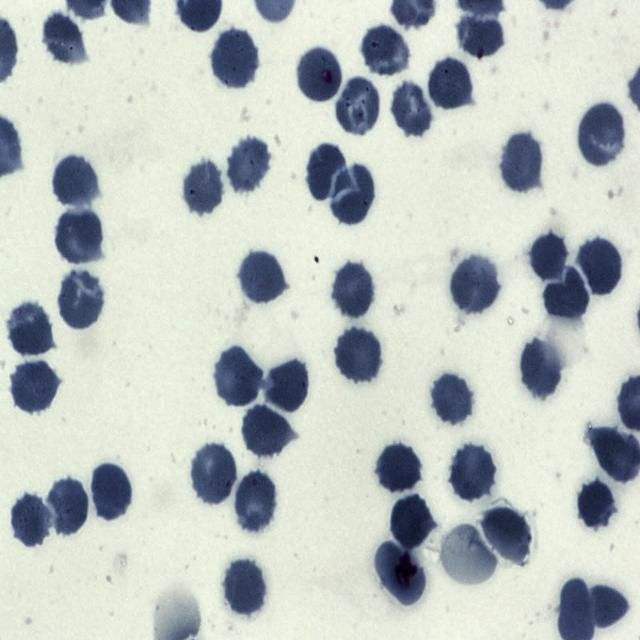red blood cell: (576, 100, 626, 170), (556, 585, 630, 630), (450, 252, 501, 314), (214, 345, 264, 407), (374, 540, 424, 602), (307, 140, 356, 202), (57, 268, 105, 331), (334, 75, 382, 137), (233, 468, 278, 534), (329, 163, 376, 226), (192, 442, 238, 506), (54, 207, 104, 265), (211, 28, 258, 89), (519, 336, 563, 401), (483, 506, 533, 562), (361, 24, 411, 80), (500, 130, 544, 193), (296, 45, 342, 104), (334, 326, 382, 382), (226, 135, 271, 194), (222, 558, 267, 616), (11, 360, 60, 413), (243, 404, 292, 457), (264, 357, 310, 413), (390, 80, 434, 138), (543, 267, 590, 321), (239, 250, 285, 305), (428, 55, 473, 111), (450, 444, 495, 500), (390, 494, 435, 550), (52, 152, 98, 206), (7, 302, 53, 356), (182, 158, 224, 216), (330, 256, 372, 314), (43, 12, 88, 66), (90, 464, 132, 520), (48, 478, 88, 536), (377, 442, 422, 493), (431, 371, 473, 425), (10, 492, 50, 548), (580, 242, 621, 296), (456, 15, 502, 60), (577, 479, 618, 529), (529, 230, 569, 281)
